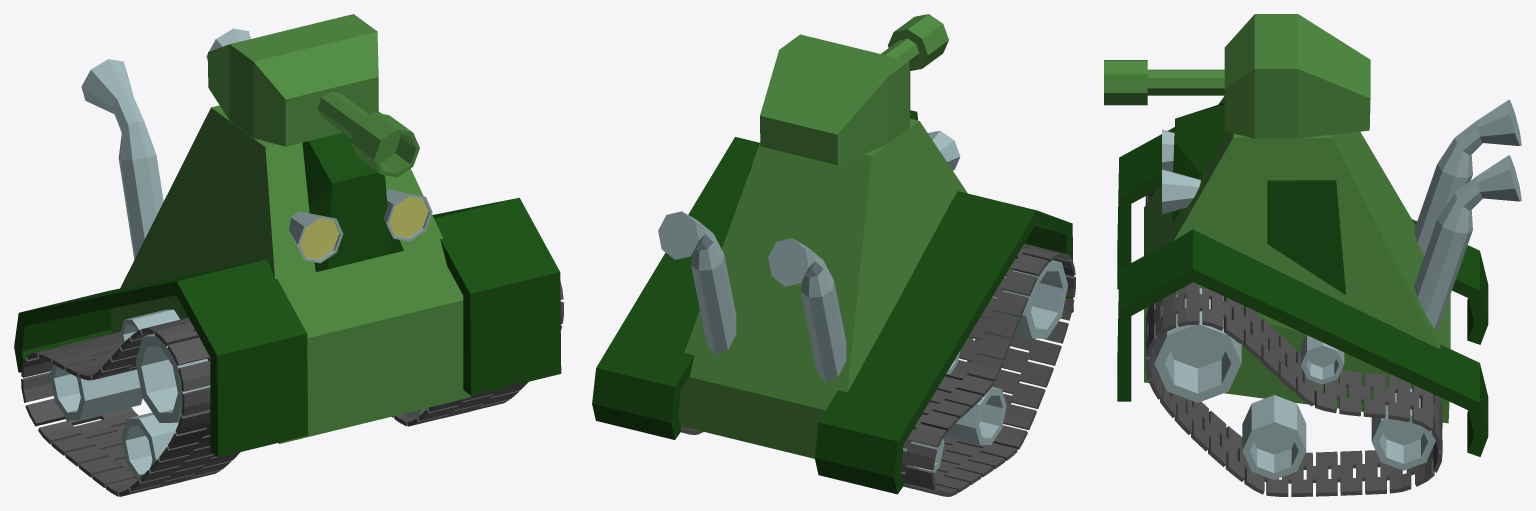
The model's file is low_poly_tank.dae.
3 renders of one model, left to right at view 1: azimuth 30°, elevation 25°; view 2: azimuth 150°, elevation 25°; view 3: azimuth 270°, elevation 25°, orthographic. The views are drawn at different scales.
Visible parts, largest first — view 1: Cube, Plane.001, Plane, Cube.005, Cube.003, Cylinder.008, Cylinder.010, Cylinder.012, Cylinder.001, Cylinder.011, Cylinder.013, Cylinder.002 (+3 smaller); view 2: Cube, Plane.001, Cube.005, Plane, Cube.003, Cylinder.008, Cylinder.007, Cylinder.012, Cylinder.011, Cylinder.001, Cylinder.013, Cylinder; view 3: Cube, Cube.004, Plane, Cube.003, Cube.001, Cylinder.007, Plane.001, Cylinder.003, Cylinder.008, Cylinder.004, Cylinder.005, Cylinder (+4 smaller).
Boxes of the visible parts, x1,y1,x2,y2 form: Cube: [111, 105, 470, 443]; Plane.001: [14, 259, 308, 457]; Plane: [432, 197, 561, 395]; Cube.005: [21, 317, 240, 496]; Cube.003: [208, 14, 378, 146]; Cylinder.008: [81, 59, 163, 259]; Cylinder.010: [50, 364, 142, 419]; Cylinder.012: [135, 334, 210, 422]; Cylinder.001: [350, 112, 419, 177]; Cylinder.011: [121, 412, 178, 480]; Cylinder.013: [289, 211, 343, 263]; Cylinder.002: [384, 189, 432, 241]; Cube: [678, 110, 973, 458]; Plane.001: [814, 191, 1073, 494]; Cube.005: [900, 243, 1075, 496]; Plane: [592, 137, 759, 439]; Cube.003: [760, 34, 910, 165]; Cylinder.008: [768, 238, 846, 382]; Cylinder.007: [658, 211, 736, 355]; Cylinder.012: [980, 260, 1067, 338]; Cylinder.011: [945, 386, 1006, 444]; Cylinder.001: [887, 14, 948, 70]; Cylinder.013: [928, 130, 960, 170]; Cylinder: [881, 38, 919, 65]; Cube: [1144, 96, 1450, 423]; Cube.004: [1145, 282, 1442, 496]; Plane: [1117, 229, 1488, 456]; Cube.003: [1224, 14, 1370, 138]; Cube.001: [1267, 180, 1345, 295]; Cylinder.007: [1414, 155, 1521, 329]; Plane.001: [1117, 127, 1488, 344]; Cylinder.003: [1154, 288, 1241, 402]; Cylinder.008: [1414, 99, 1521, 255]; Cylinder.004: [1242, 395, 1306, 479]; Cylinder.005: [1371, 388, 1435, 470]; Cylinder: [1147, 69, 1224, 95].
Size of the model in its own units: 3.97 by 4.16 by 4.09.
